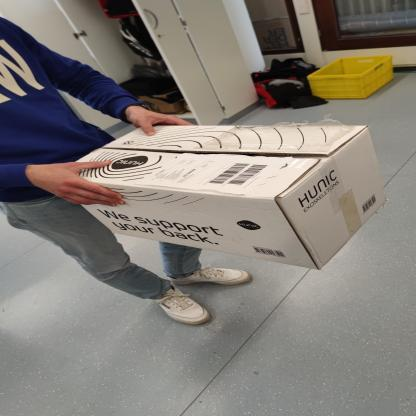-: (57, 118, 401, 271)
